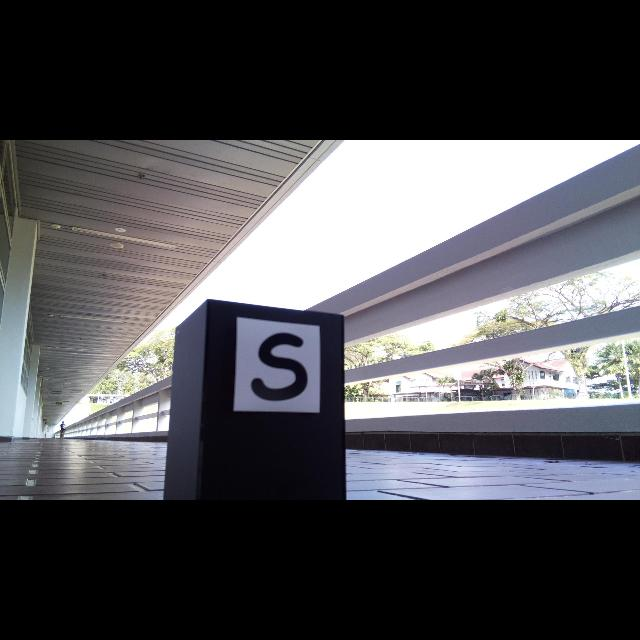S: (249, 332, 307, 401)
